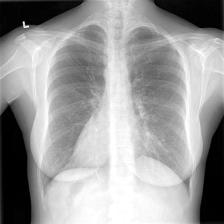normal: (34, 16, 196, 202)
